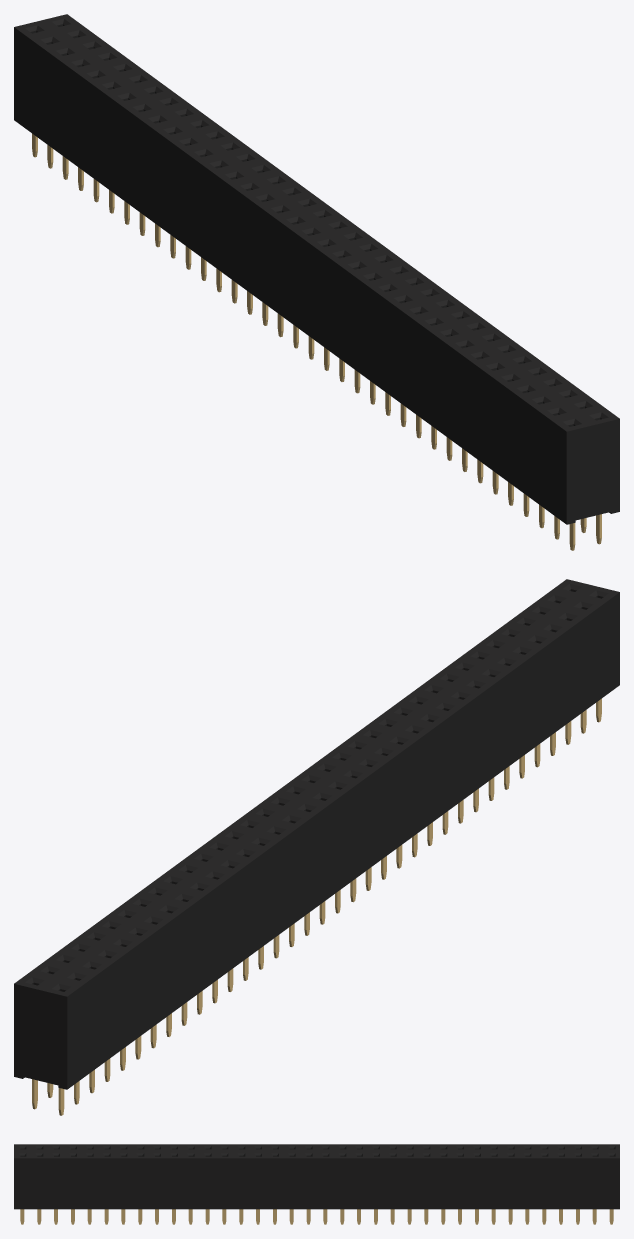
File: kc-pinsocket_2x36_p2.54mm_vertical.glb
The picture shows the model from 3 angles, top to bottom: view 1: azimuth 30°, elevation 25°; view 2: azimuth 150°, elevation 25°; view 3: azimuth 270°, elevation 25°; orthographic projection. The views are drawn at different scales.
Visible parts, largest first — view 1: 0_0_0_0, 0.75_0.5_0.25_0.9; view 2: 0_0_0_0, 0.75_0.5_0.25_0.9; view 3: 0_0_0_0, 0.75_0.5_0.25_0.9.
Boxes of the visible parts, x1,y1,x2,y2 form: 0_0_0_0: (14,14,619,524); 0.75_0.5_0.25_0.9: (32,133,601,550); 0_0_0_0: (14,579,619,1089); 0.75_0.5_0.25_0.9: (32,698,601,1115); 0_0_0_0: (14,1144,619,1209); 0.75_0.5_0.25_0.9: (20,1209,613,1224).
Size of the model in its own units: 0.5079 by 1.16 by 9.14.
